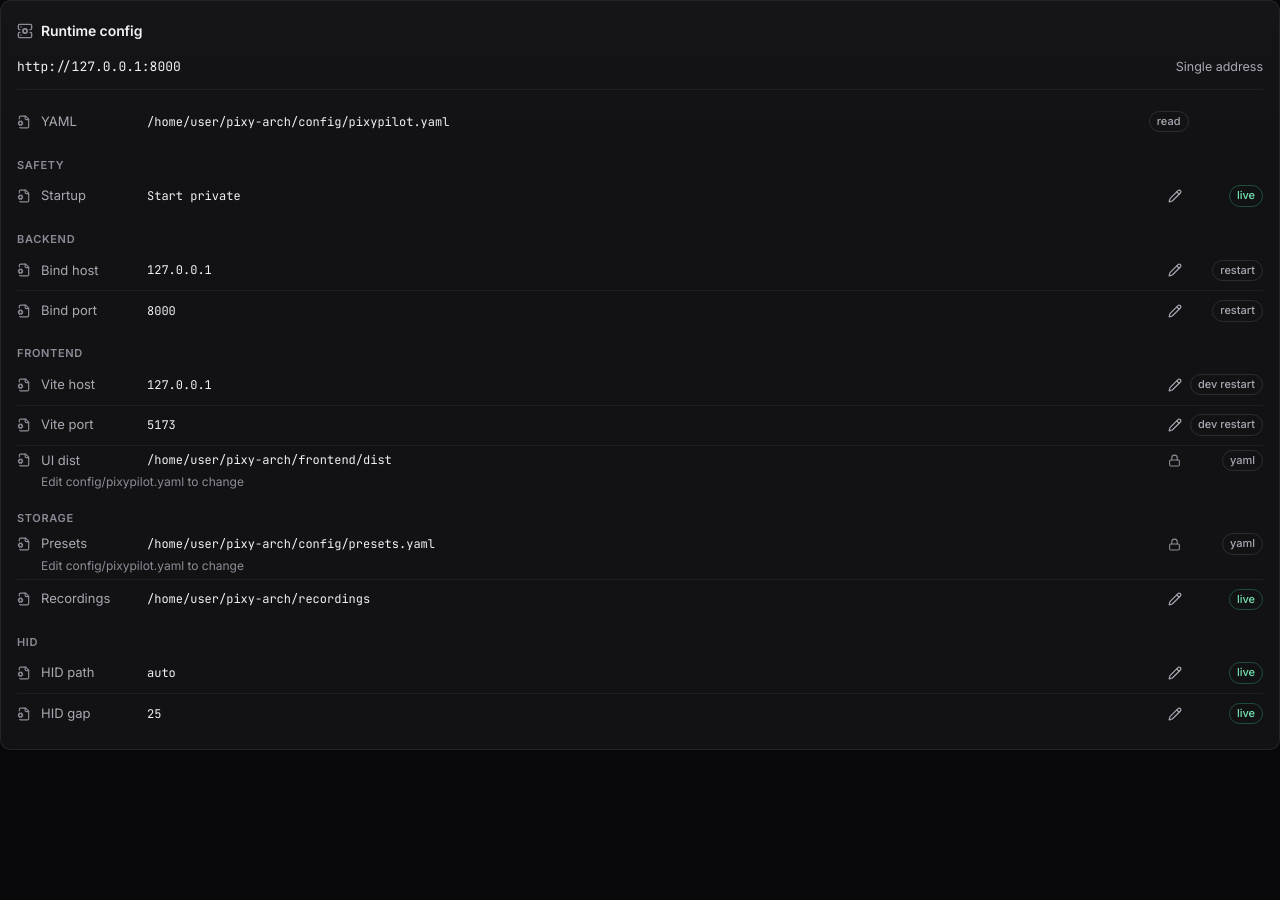
Scenario: RuntimeSettingsPanel › names the select used to edit the startup setting
The image size is (1280, 900).
Click the button named "Edit Startup": (1174, 196) top-left (1160, 182), bottom-right (1188, 210)
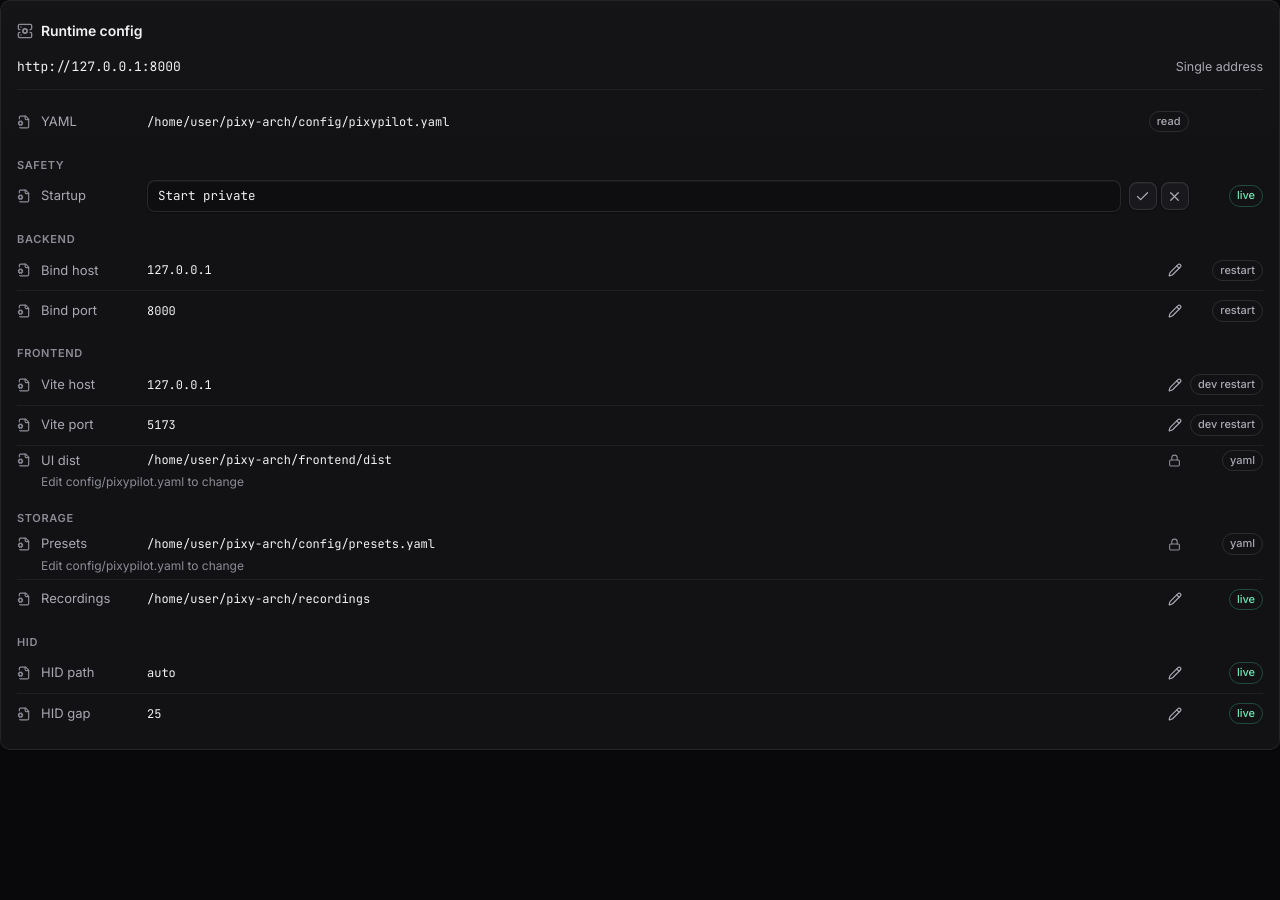
expect the dropdown named "Startup" shows "Start private": met, box top-left (147, 180), bottom-right (1120, 212)
